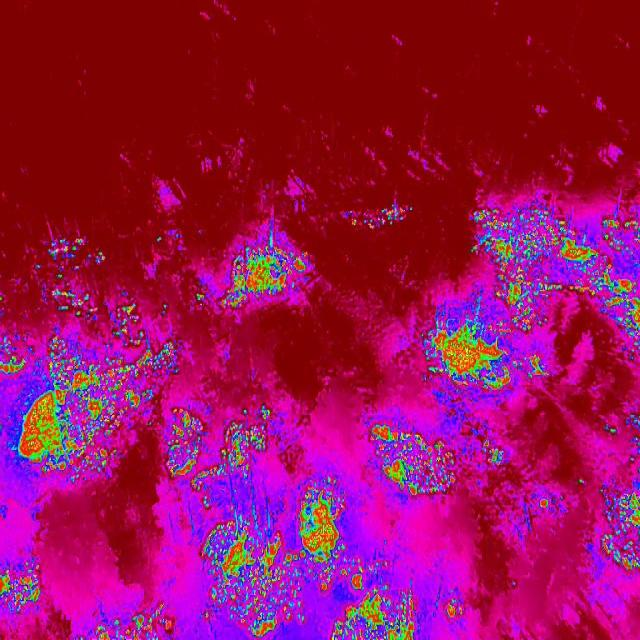fire: (160, 406, 416, 640), (0, 317, 195, 477), (469, 195, 640, 341), (422, 301, 544, 428), (366, 418, 480, 518), (210, 231, 316, 320), (593, 467, 640, 579), (81, 604, 161, 640), (0, 558, 50, 614), (442, 590, 468, 625)
